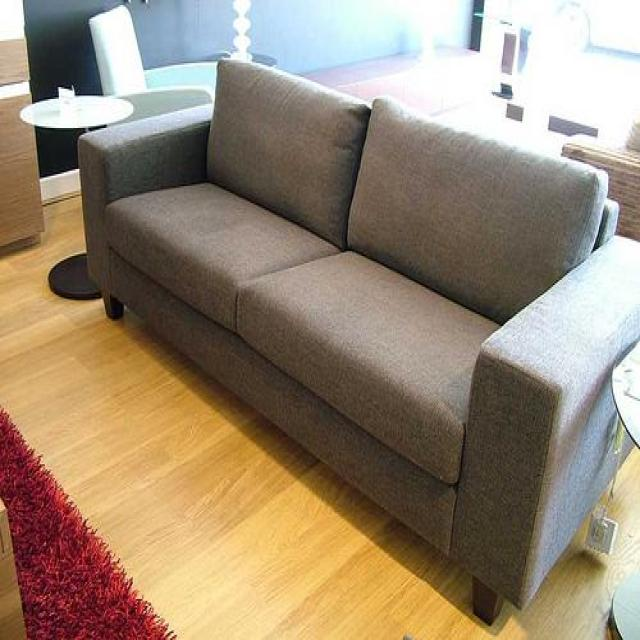sofa: (76, 56, 640, 627)
